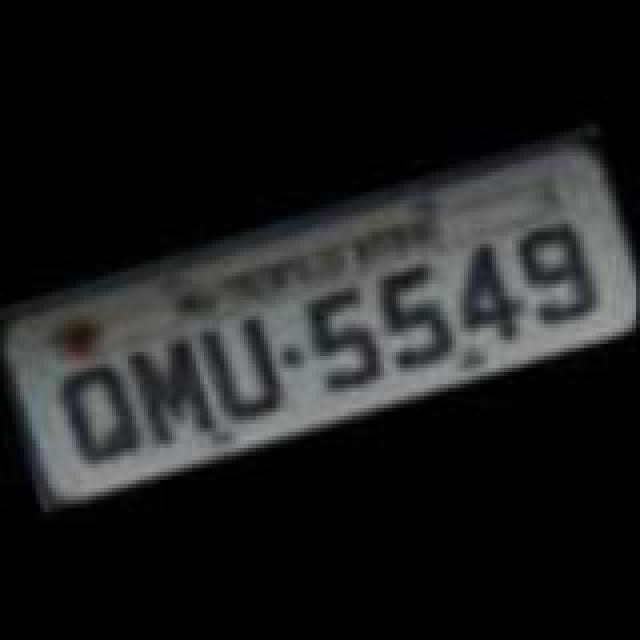4: (434, 228, 530, 356)
5: (364, 252, 464, 376), (294, 272, 390, 396)
9: (506, 210, 606, 334)
M: (122, 328, 222, 448)
Q: (46, 348, 146, 468)
U: (190, 304, 290, 424)
